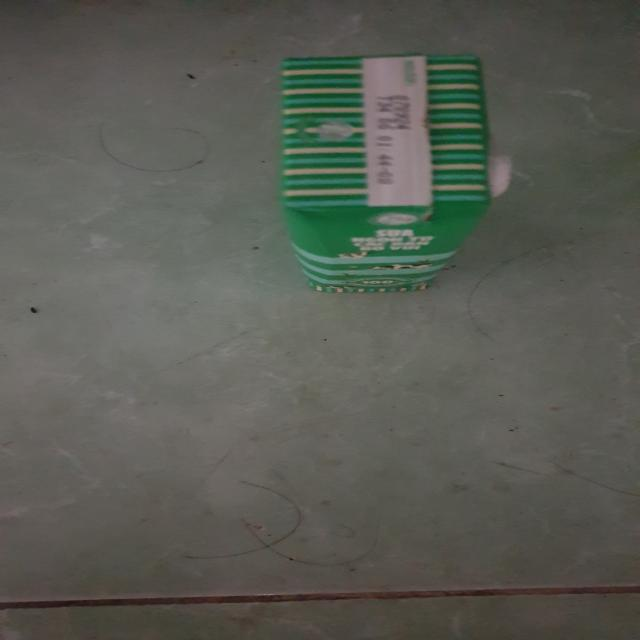Vina: (267, 57, 518, 288)
